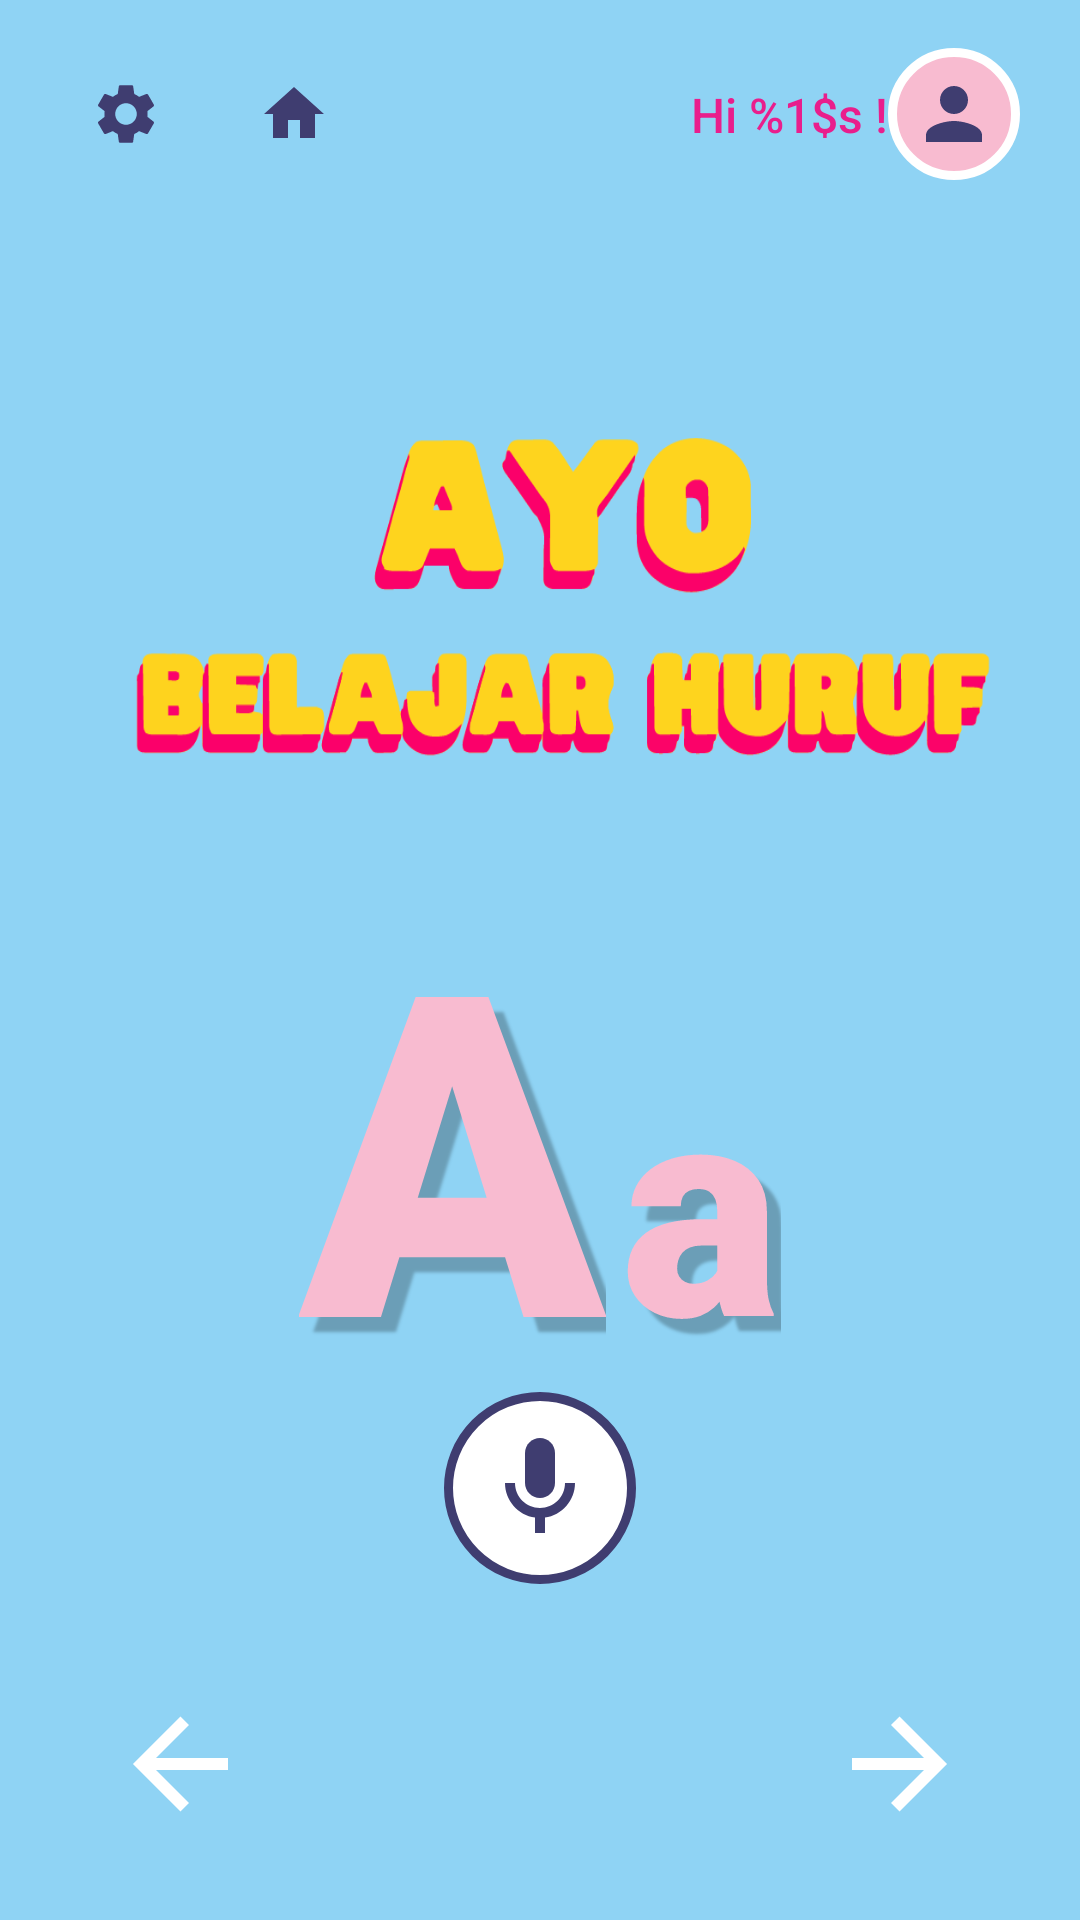

Screen size 1080x1920. Icon name, then its box in pixels as (x1,y1,x2,y2):
arrow back: (133,1716,228,1812)
home: (264,87,324,138)
Pengaturan: (98,85,154,143)
person: (888,48,1020,180)
Selanjutnya: (852,1716,947,1812)
